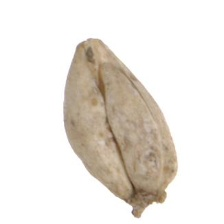L1: (74, 37, 120, 70), (122, 190, 172, 218)
L2: (63, 38, 178, 218)
